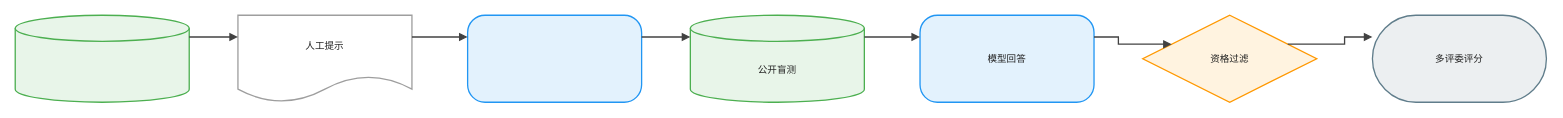
This 1563x118 diagram has some shape labels left out. Here are the shapes that lost their labels. From the top down, the centre of each, then its label:
the point at 101,58: 长文档
the point at 554,58: 人工核验
